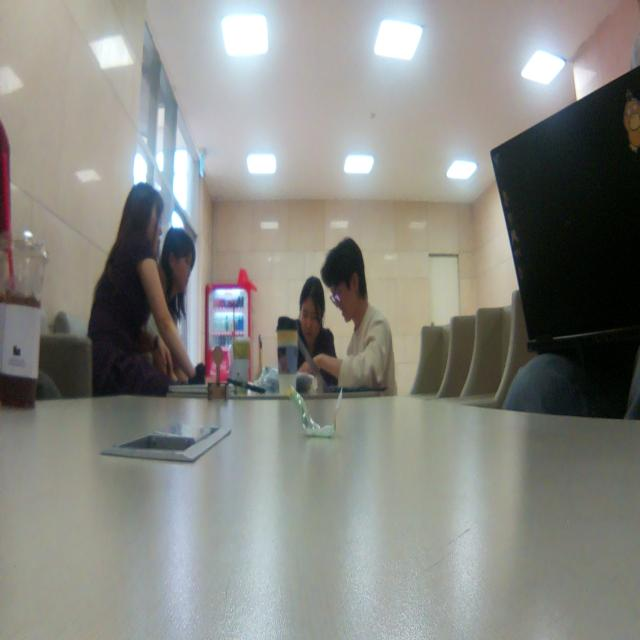target: (208, 346, 230, 403)
